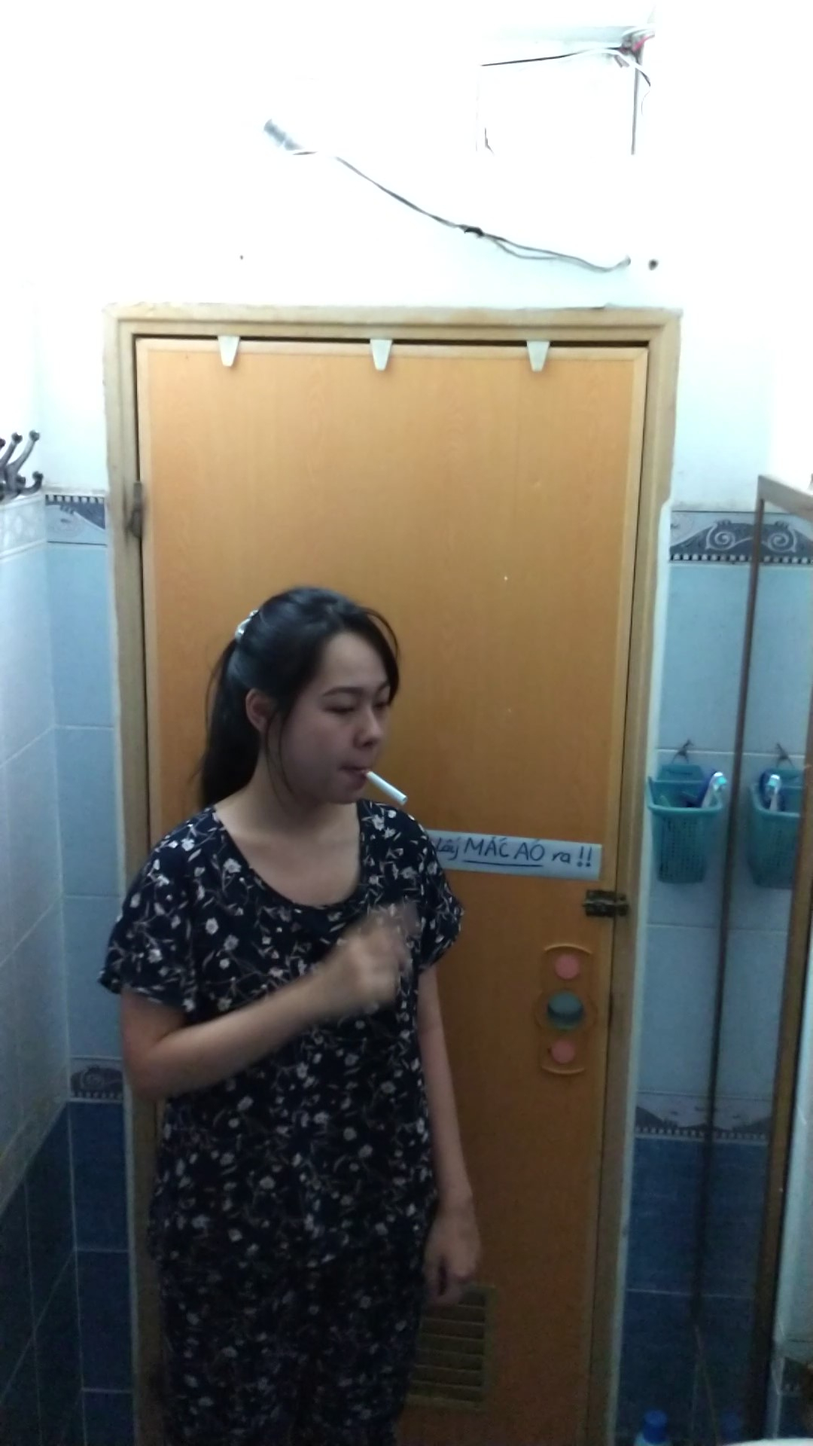cigarette: (361, 765, 413, 811)
person: (105, 572, 493, 1440)
